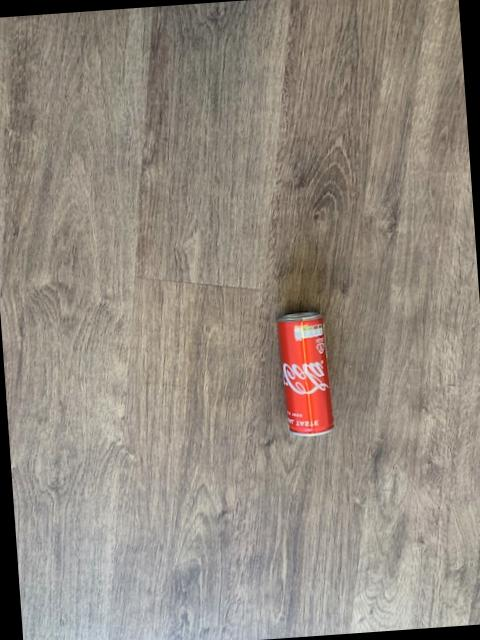metal: (278, 309, 333, 433)
